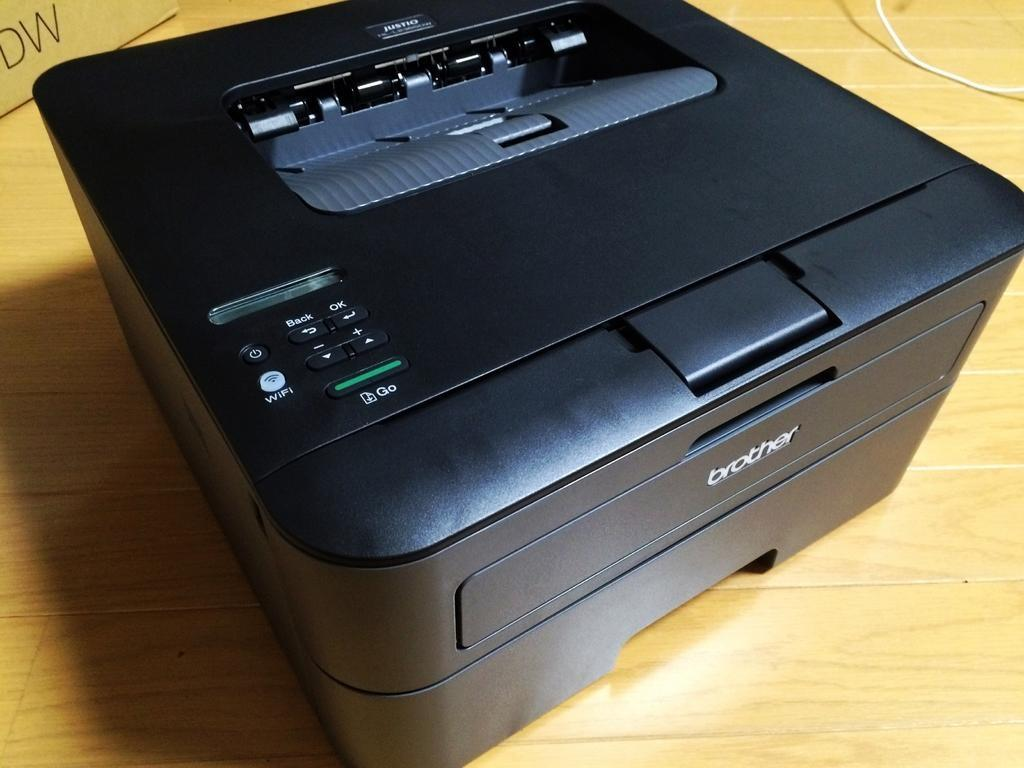Printer: (30, 0, 1023, 767)
